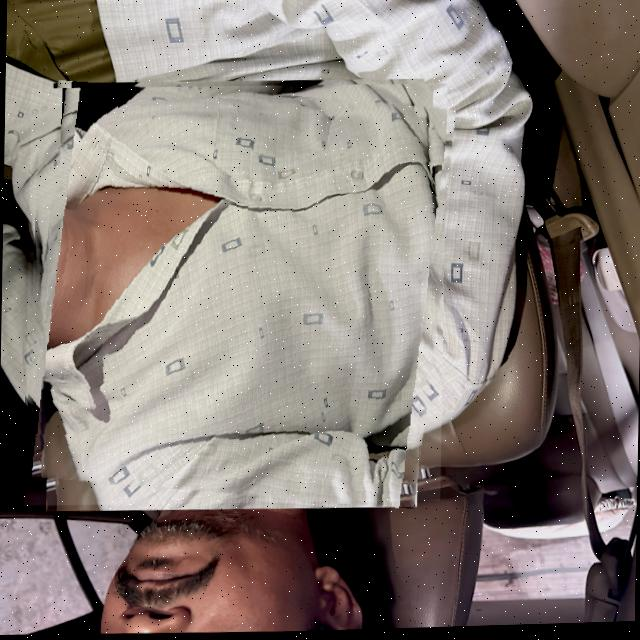no-seatbelt: (23, 78, 446, 511)
